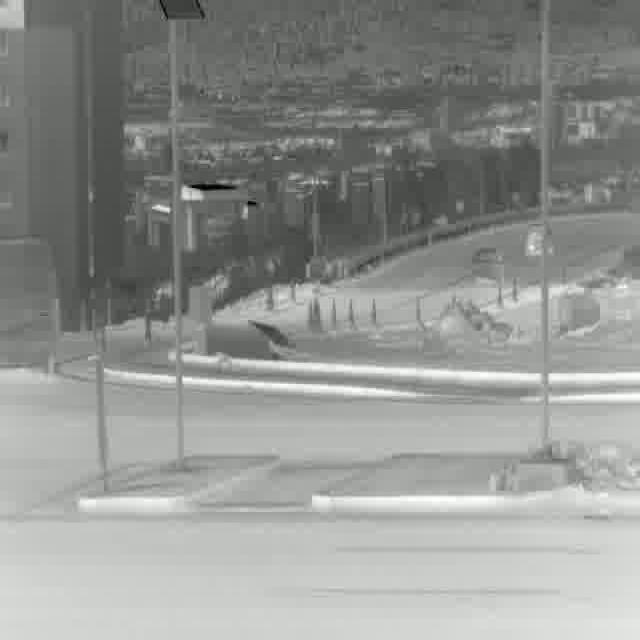Car: (1, 238, 58, 367), (522, 221, 554, 260), (472, 245, 500, 283)
